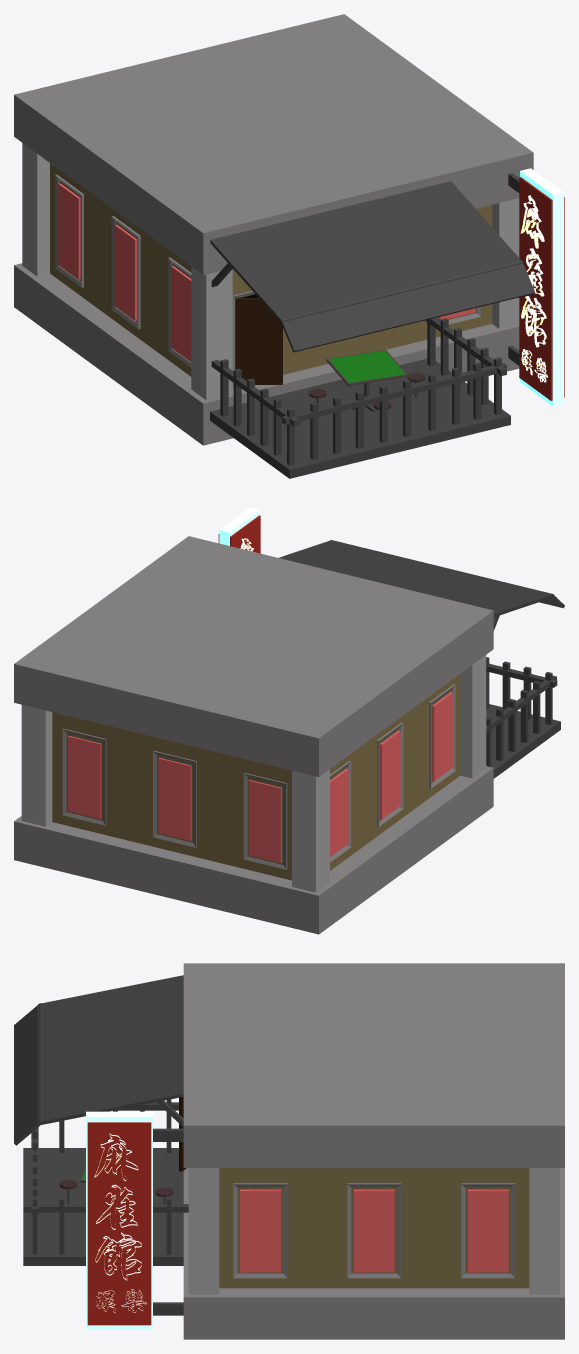
3 renders of one model, top to bottom at view 1: azimuth 30°, elevation 25°; view 2: azimuth 150°, elevation 25°; view 3: azimuth 270°, elevation 25°, orthographic. The views are drawn at different scales.
Parts seen in each view (by area): view 1: Cube.014, Cube.024, Cube.013, Cube.023, Cube.002, Cube.006, Cube.004, Cube.016, Cube.050, Cube.005, Cube.017, Cube.010 (+8 smaller); view 2: Cube.014, Cube.002, Cube.013, Cube.024, Cube.017, Cube.001, Cube.018, Cube, Cube.003, Cube.016, Cube.010, Cube.011 (+6 smaller); view 3: Cube.014, Cube.002, Cube.013, Cube.024, Cube.004, Cube.023, Cube.007, Cube.008, Cube.009, Cube.015, Cube.018, Cube.006 (+3 smaller).
Boxes of the visible parts, bbox=[...] form: Cube.014: bbox=[14, 14, 533, 274]; Cube.024: bbox=[210, 181, 523, 323]; Cube.013: bbox=[14, 263, 519, 445]; Cube.023: bbox=[210, 358, 510, 478]; Cube.002: bbox=[50, 163, 492, 376]; Cube.006: bbox=[280, 261, 535, 352]; Cube.004: bbox=[519, 177, 564, 400]; Cube.016: bbox=[191, 267, 232, 400]; Cube.050: bbox=[232, 291, 282, 387]; Cube.005: bbox=[520, 168, 564, 406]; Cube.017: bbox=[22, 143, 49, 276]; Cube.010: bbox=[111, 216, 140, 329]; Cube.014: bbox=[14, 536, 493, 776]; Cube.002: bbox=[52, 674, 460, 880]; Cube.013: bbox=[14, 766, 493, 934]; Cube.024: bbox=[279, 540, 553, 617]; Cube.017: bbox=[292, 769, 329, 892]; Cube.001: bbox=[243, 773, 287, 869]; Cube.018: bbox=[21, 705, 52, 826]; Cube: bbox=[62, 728, 106, 825]; Cube.003: bbox=[153, 751, 196, 847]; Cube.016: bbox=[460, 655, 486, 778]; Cube.010: bbox=[377, 722, 403, 826]; Cube.011: bbox=[429, 684, 455, 788]; Cube.014: bbox=[183, 963, 564, 1167]; Cube.002: bbox=[219, 1168, 529, 1288]; Cube.013: bbox=[183, 1168, 564, 1339]; Cube.024: bbox=[38, 975, 183, 1125]; Cube.004: bbox=[87, 1122, 151, 1325]; Cube.023: bbox=[23, 1148, 183, 1265]; Cube.007: bbox=[233, 1183, 287, 1278]; Cube.008: bbox=[461, 1183, 515, 1278]; Cube.009: bbox=[347, 1183, 401, 1278]; Cube.015: bbox=[188, 1168, 219, 1294]; Cube.018: bbox=[529, 1168, 559, 1294]; Cube.006: bbox=[14, 1003, 40, 1145].
Size of the model in its own units: 13.28 by 8.16 by 19.04.
